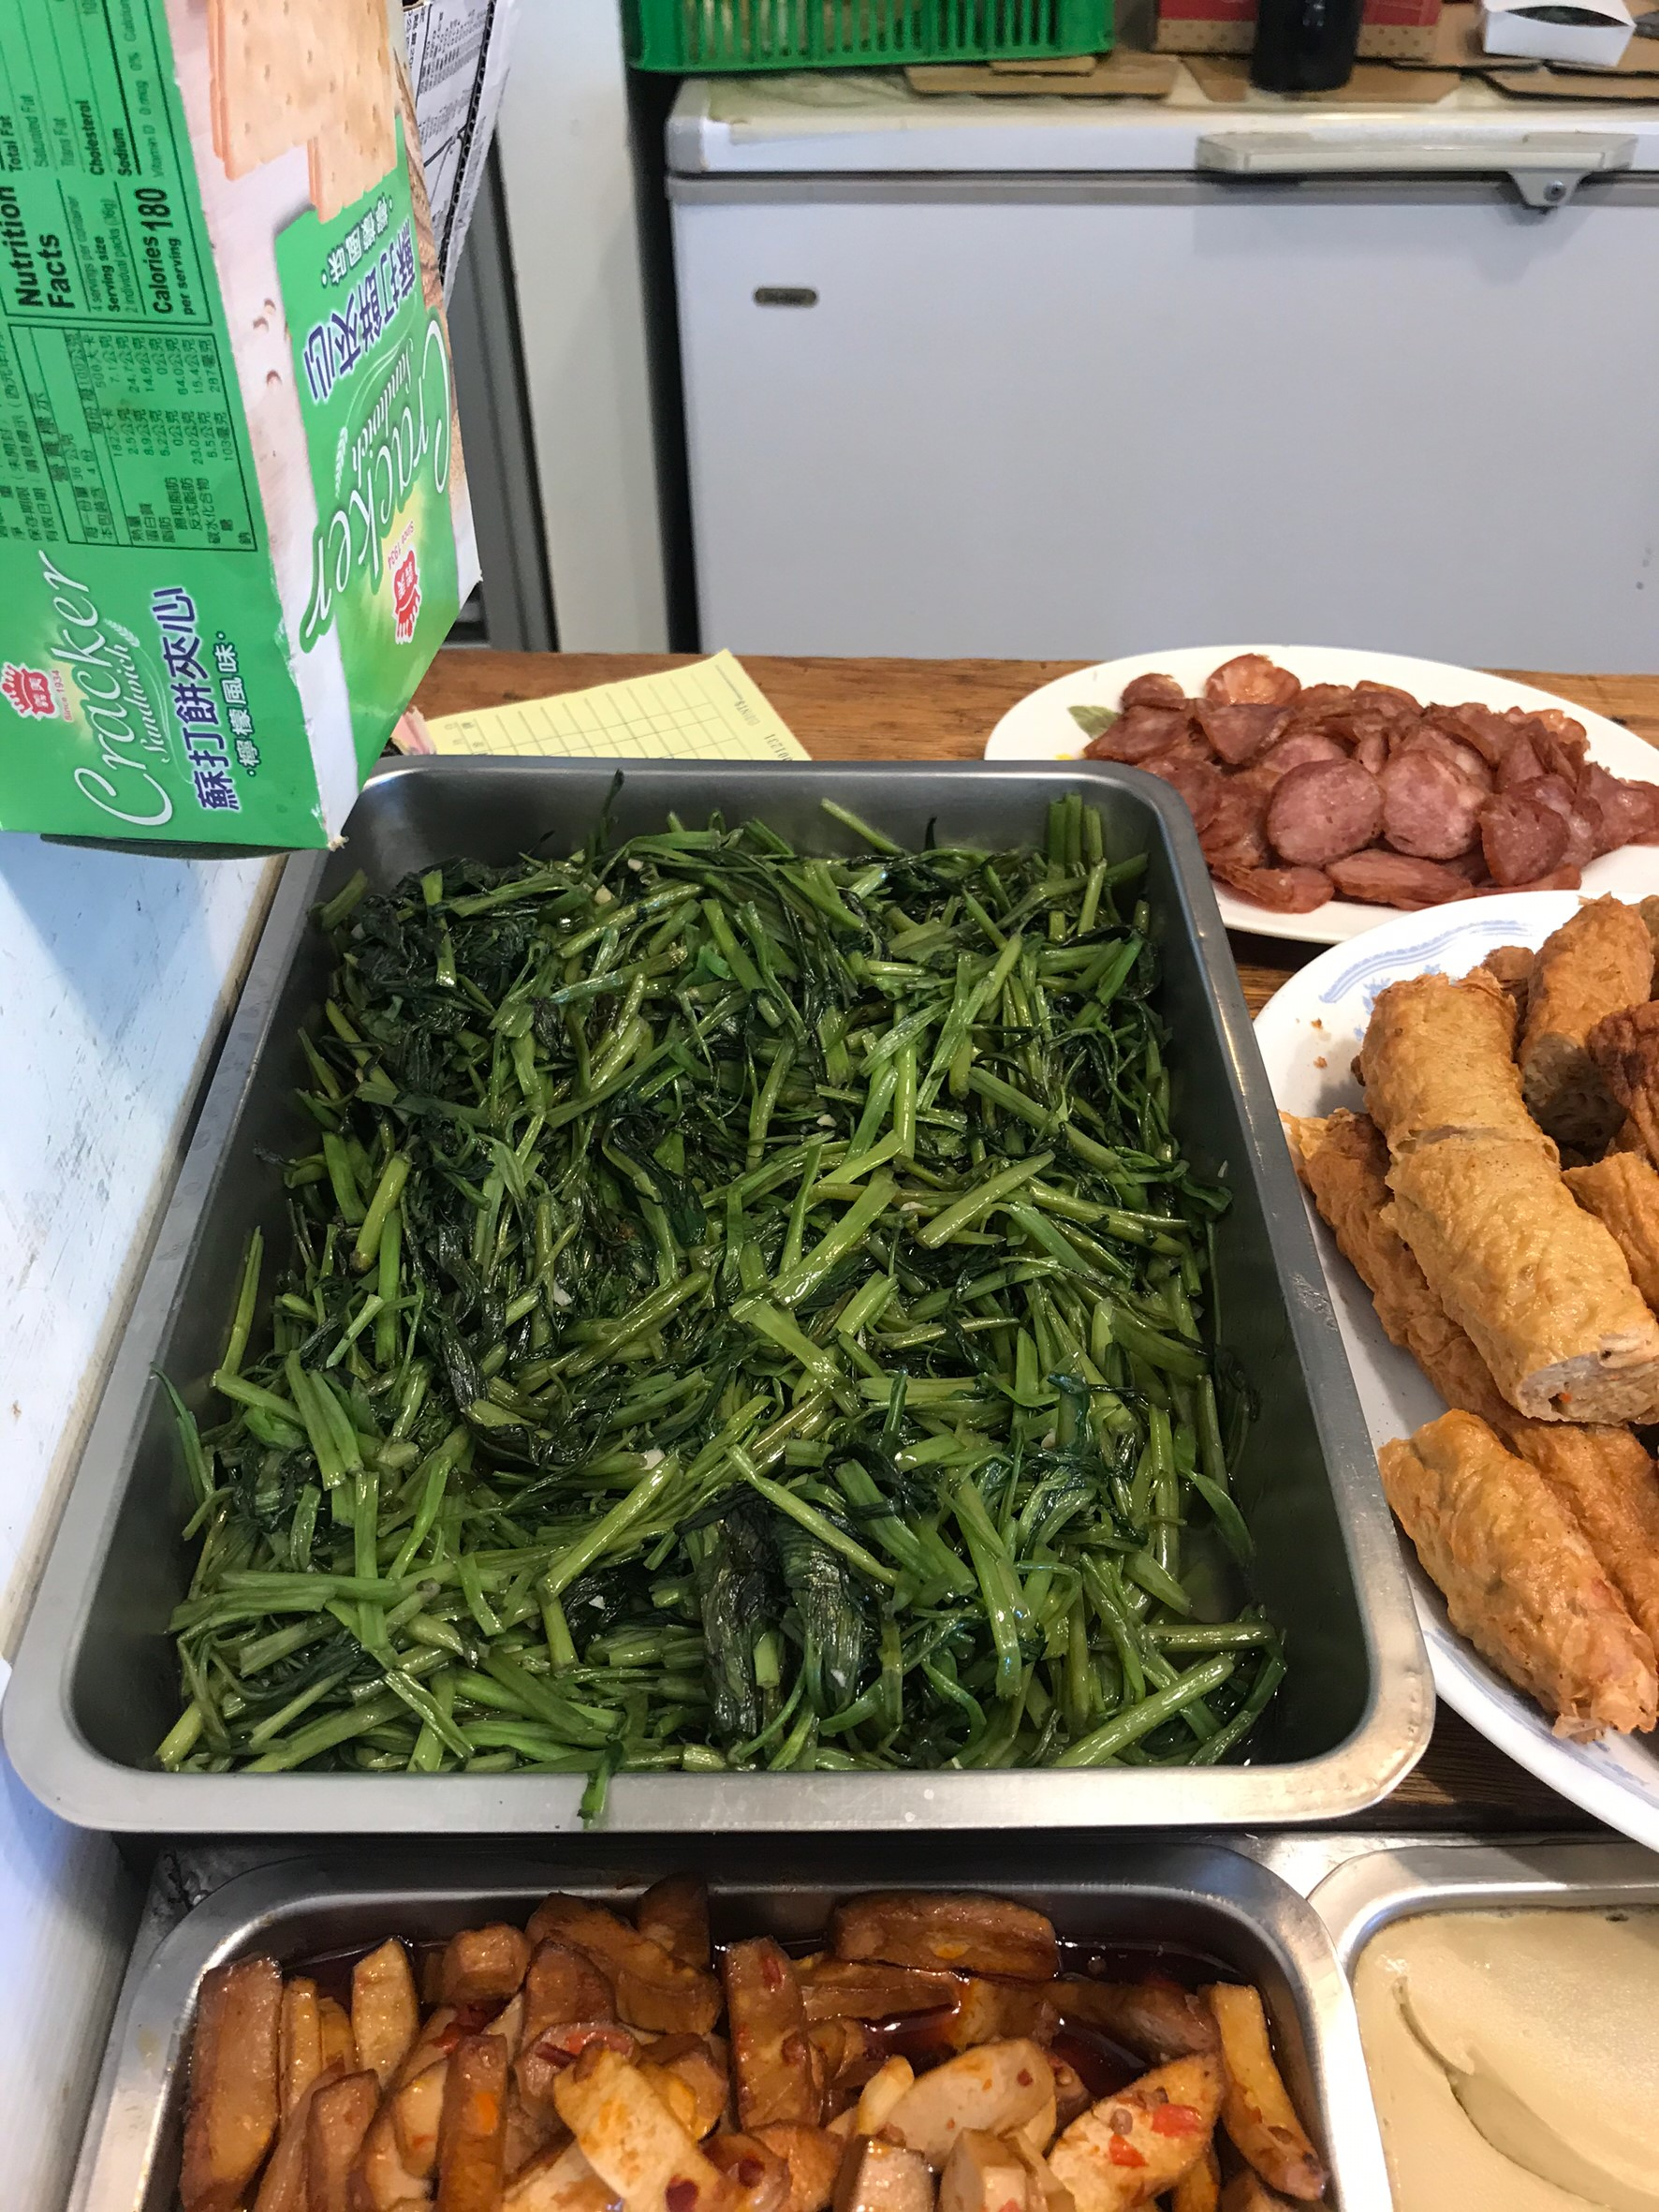chinese_sausage: (1143, 680, 1577, 891)
water_spinach: (274, 903, 1148, 1762)
